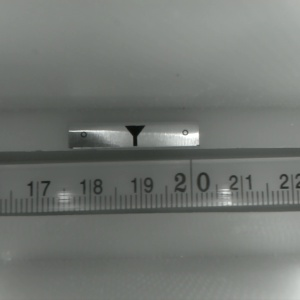0: (196, 172, 209, 192)
1: (130, 177, 137, 193), (26, 181, 33, 197), (245, 174, 251, 190), (80, 179, 86, 194)
2: (173, 172, 186, 192), (227, 175, 238, 191), (278, 173, 288, 189), (294, 173, 300, 188)
7: (40, 181, 50, 196)
8: (93, 178, 103, 194)
9: (143, 177, 153, 193)
finger: (122, 125, 146, 147)
